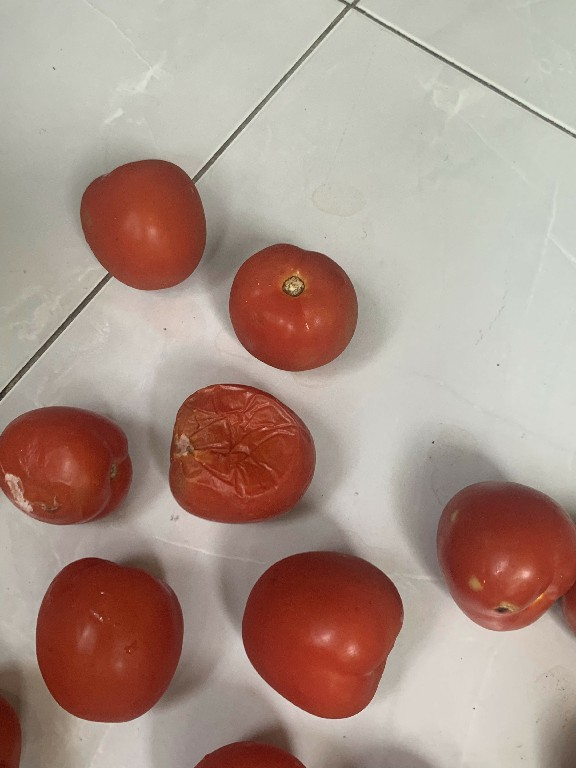NG: (433, 463, 576, 648), (162, 376, 317, 525), (1, 388, 140, 534)
OK: (234, 545, 406, 733), (30, 545, 182, 733), (70, 153, 211, 303), (221, 230, 360, 380)
